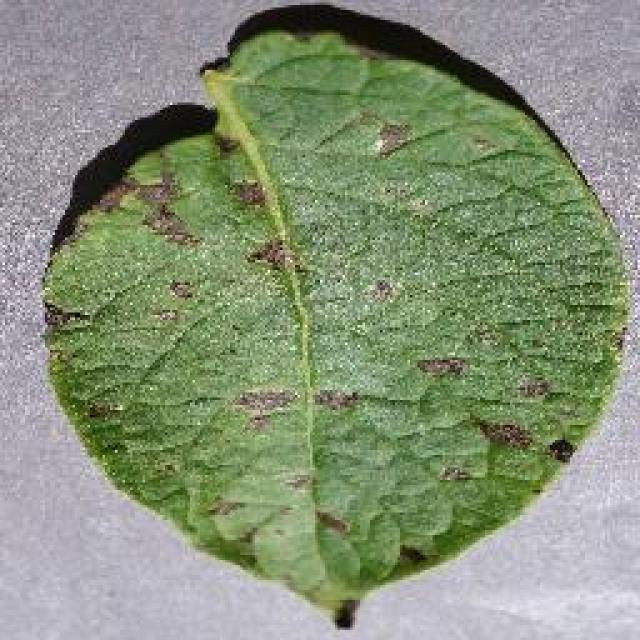Potato___Early_blight: (36, 23, 628, 628)
